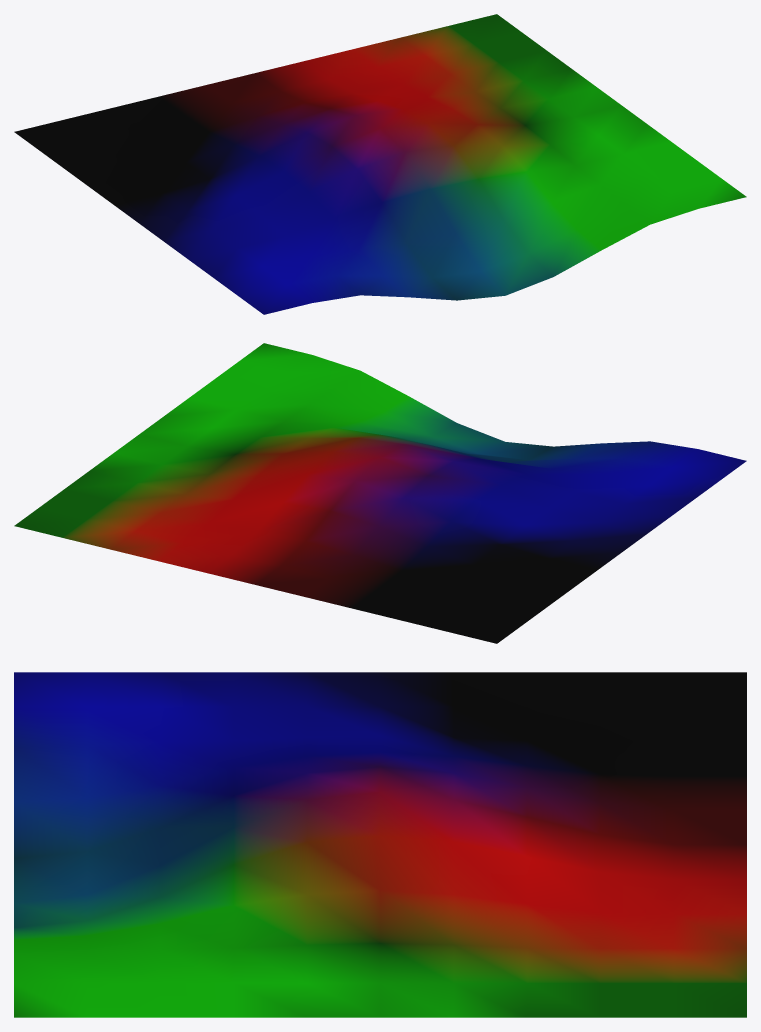
3 views of the same model, one above another, from view 1: azimuth 30°, elevation 25°; view 2: azimuth 150°, elevation 25°; view 3: azimuth 270°, elevation 25° (orthographic). The views are drawn at different scales.
Visible parts, largest first — view 1: Plane001; view 2: Plane001; view 3: Plane001.
Boxes of the visible parts, left/top/right/bottom form: Plane001: left=14, top=14, right=746, bottom=314; Plane001: left=14, top=343, right=746, bottom=643; Plane001: left=14, top=672, right=746, bottom=1017.
Bounding box in the file's own units: 168 × 25.17 × 150.
